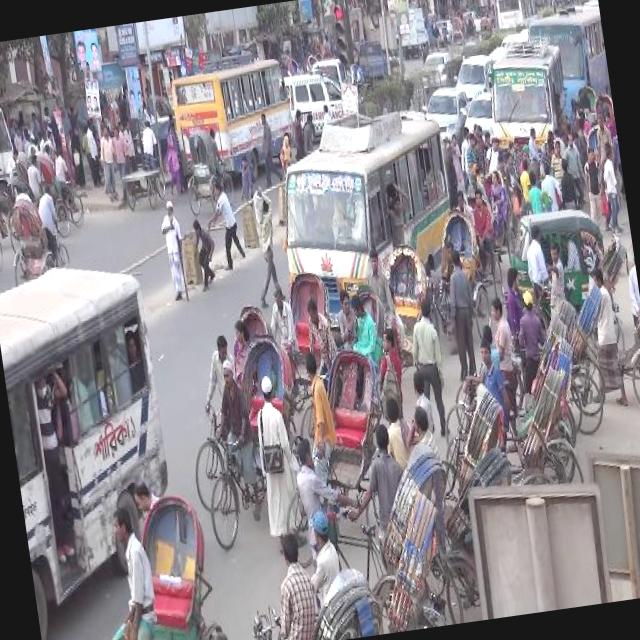bus: (266, 98, 466, 301), (162, 45, 302, 191), (476, 26, 574, 148), (522, 0, 609, 94), (492, 0, 541, 36)
motorcycle: (186, 332, 318, 560), (78, 471, 236, 640), (172, 296, 291, 493), (290, 346, 403, 531), (236, 520, 380, 640), (381, 378, 515, 506), (358, 488, 454, 634), (362, 240, 446, 388), (548, 267, 620, 439), (500, 363, 580, 499), (268, 274, 342, 395), (423, 209, 489, 337), (0, 183, 74, 296), (172, 108, 239, 218), (301, 285, 388, 369), (506, 200, 604, 272), (472, 162, 520, 272), (34, 143, 88, 238), (469, 184, 508, 304), (594, 230, 634, 296), (572, 82, 596, 120), (592, 89, 615, 127), (475, 11, 493, 43)
